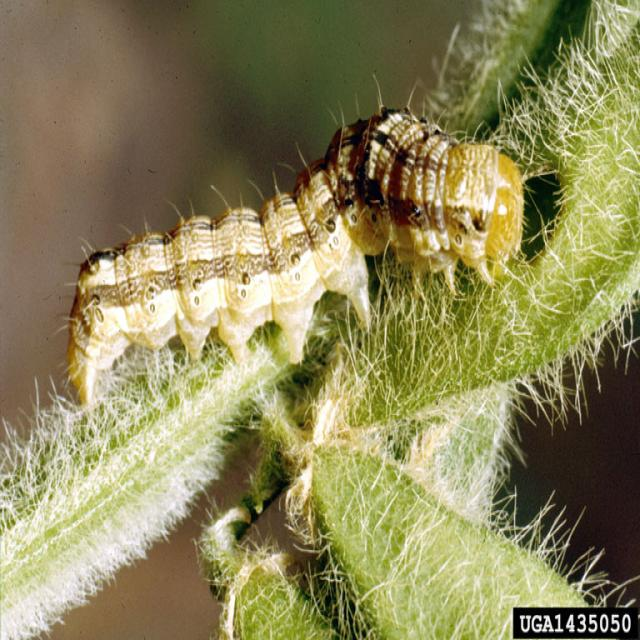Corn-earworm: (65, 106, 530, 396)
